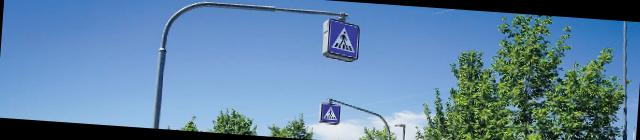crosswalk-sign: (322, 20, 362, 64), (321, 104, 342, 126)
